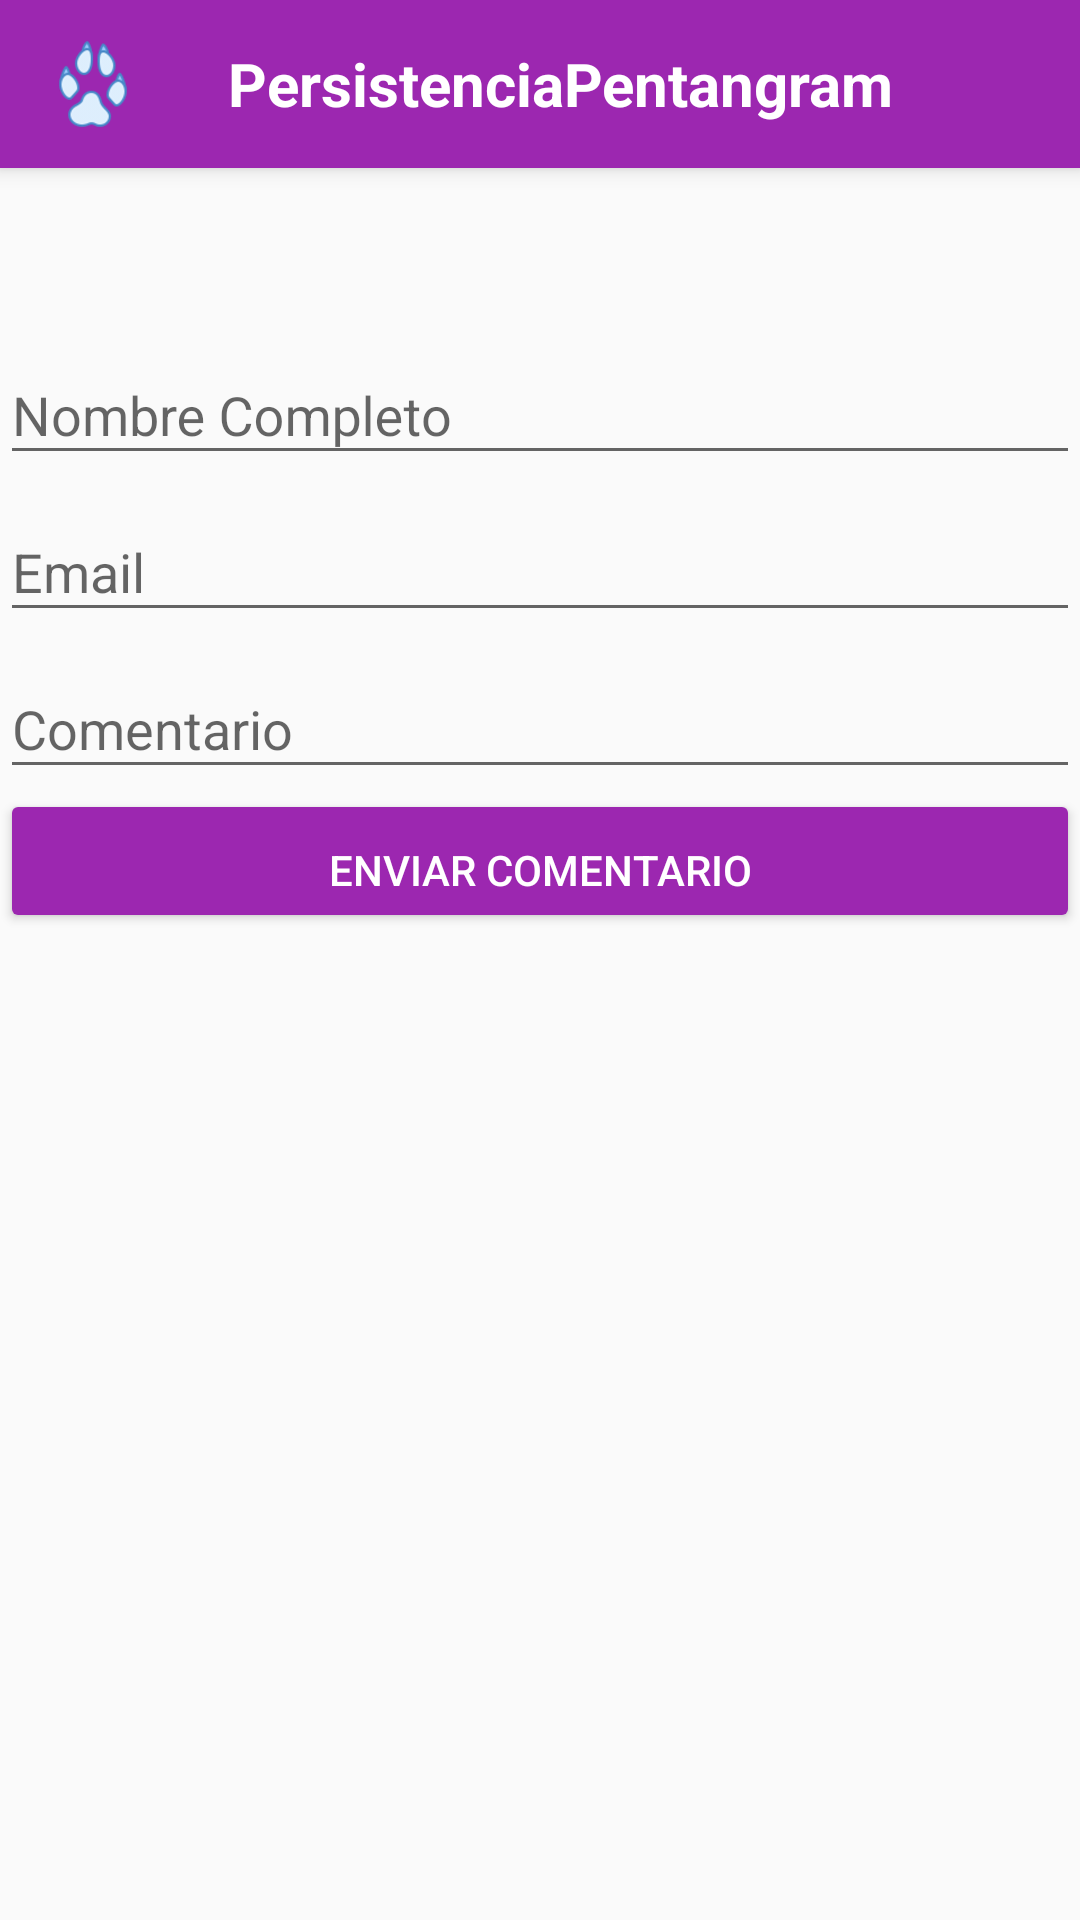

Named icons in this screenshot (1080 × 1920) and their centers, point (x, y):
perroicons: point (93, 84)
